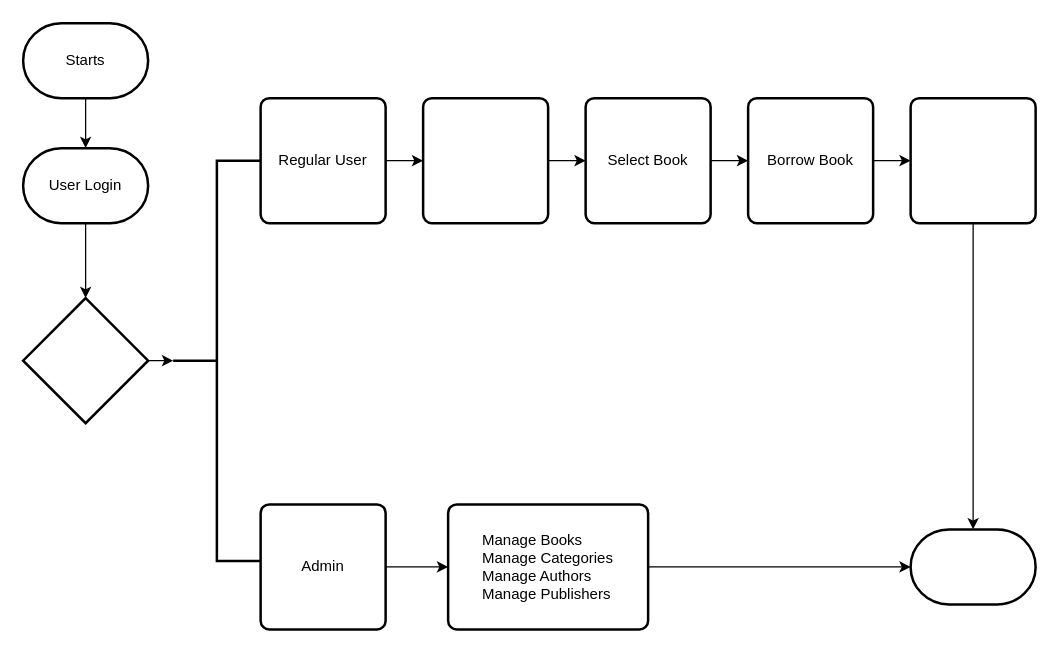
Some shapes in this 1058 by 651 pixel diagram are drawn without their labels. The shapes that lost their labels are listed below. From the top down, each one's centre as x and y in pixels, then its label:
pixel 485 160: Browse Bool
pixel 972 160: Return Book
pixel 85 360: Check Role
pixel 972 566: End
